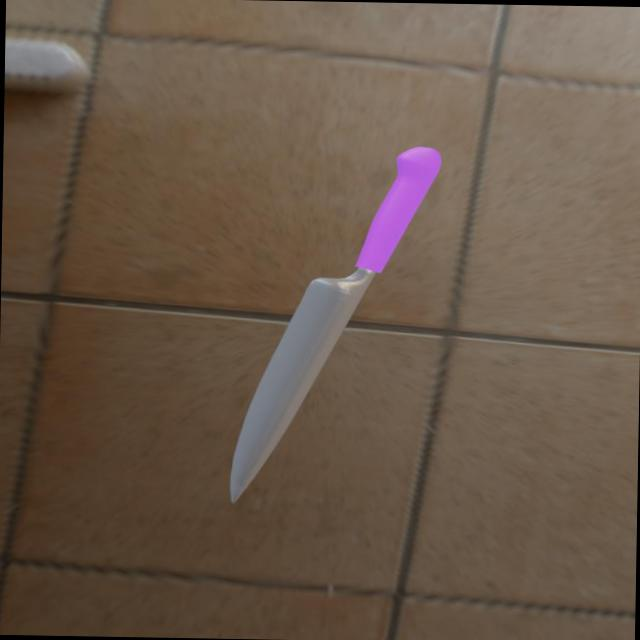knife: (356, 143, 442, 272)
